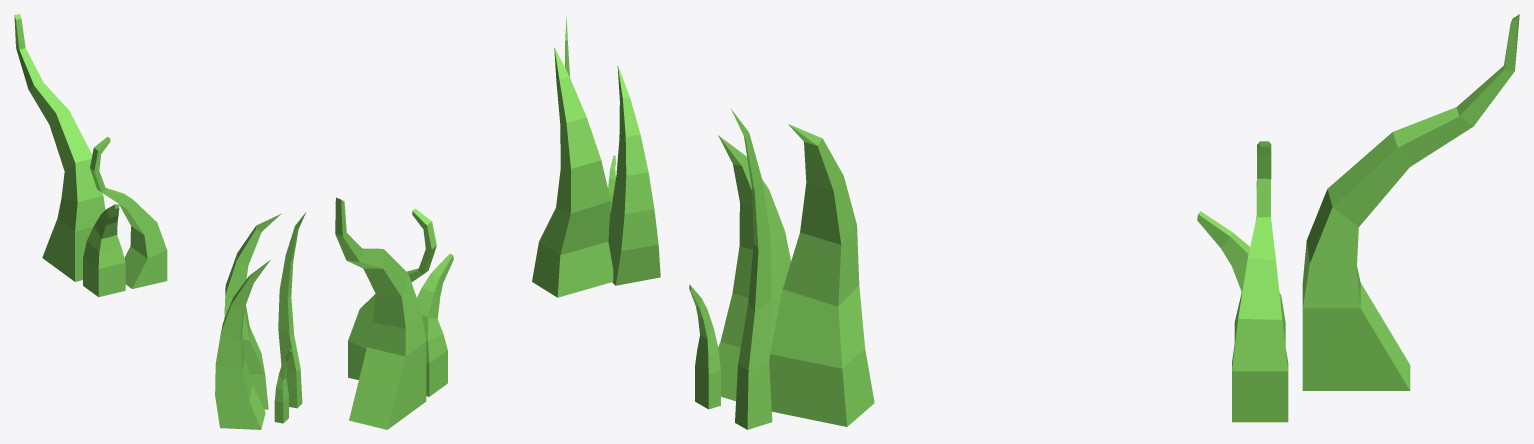
Rendered from Grass.fbx.
3 views of the same model, side by side, from view 1: azimuth 30°, elevation 25°; view 2: azimuth 150°, elevation 25°; view 3: azimuth 270°, elevation 25° (orthographic). The views are drawn at different scales.
Parts seen in each view (by area): view 1: Cube.001, Cube.004, Cube.002, Cube, Cube.003, Cube.005, Cube.006; view 2: Cube.003, Cube.001, Cube.004, Cube, Cube.002; view 3: Cube.001, Cube.003, Cube.002, Cube.005, Cube.004, Cube.006, Cube.
Boxes of the visible parts, box(x1,y1,x2,y2) form: Cube.001: box(14, 14, 105, 281); Cube.004: box(215, 260, 270, 429); Cube.002: box(90, 136, 167, 288); Cube: box(83, 204, 125, 297); Cube.003: box(224, 213, 281, 409); Cube.005: box(278, 212, 305, 408); Cube.006: box(274, 349, 291, 423); Cube.003: box(532, 47, 613, 297); Cube.001: box(335, 197, 426, 429); Cube.004: box(608, 65, 660, 285); Cube: box(417, 253, 453, 396); Cube.002: box(348, 208, 436, 379); Cube.001: box(1302, 14, 1519, 390); Cube.003: box(769, 124, 874, 426); Cube.002: box(1232, 141, 1288, 422); Cube.005: box(731, 109, 772, 429); Cube.004: box(718, 135, 790, 401); Cube.006: box(689, 284, 720, 409); Cube: box(1197, 211, 1285, 345).
Size of the model in its own units: 386 by 870 by 1726.
